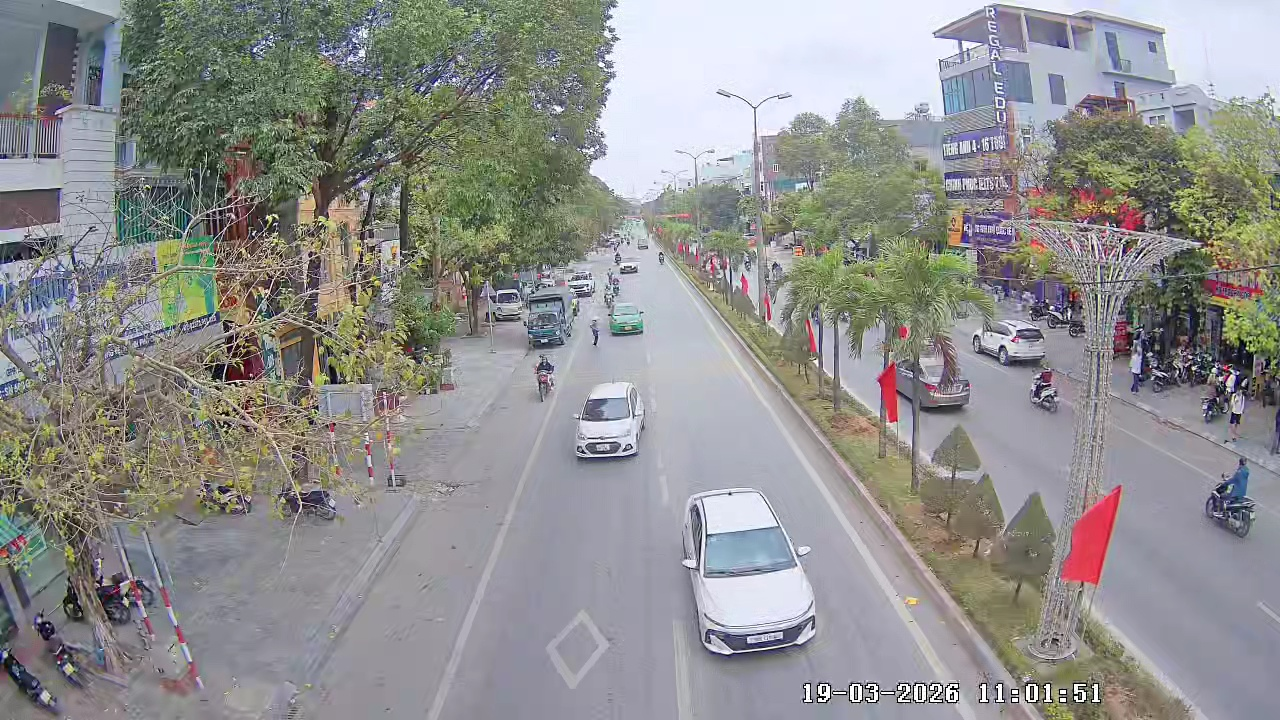car: (679, 487, 821, 658), (572, 380, 649, 461), (972, 321, 1049, 368), (910, 355, 972, 412), (972, 324, 1013, 364), (609, 301, 646, 336), (570, 270, 593, 299)
motorbike: (1204, 457, 1259, 540), (290, 485, 342, 523), (1029, 363, 1061, 413), (534, 353, 557, 401), (606, 272, 620, 307)
pedestrian: (588, 316, 602, 345)
truck: (522, 293, 568, 349)
